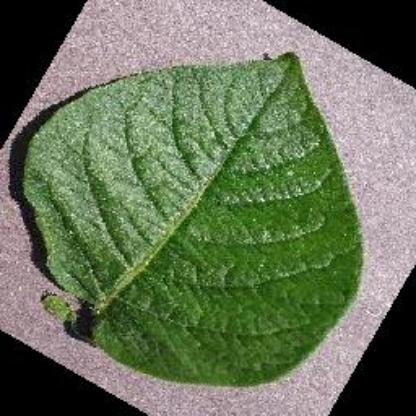Healthy-plant: (14, 49, 358, 393)
